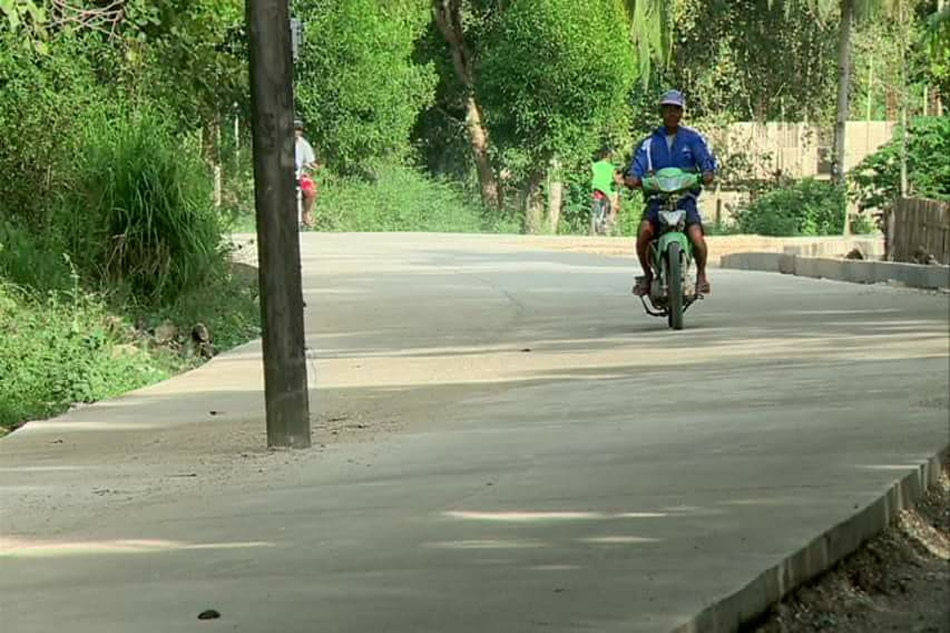bike: (615, 167, 719, 329)
person: (634, 91, 710, 300)
pole: (246, 4, 317, 450)
tree: (432, 2, 523, 223)
